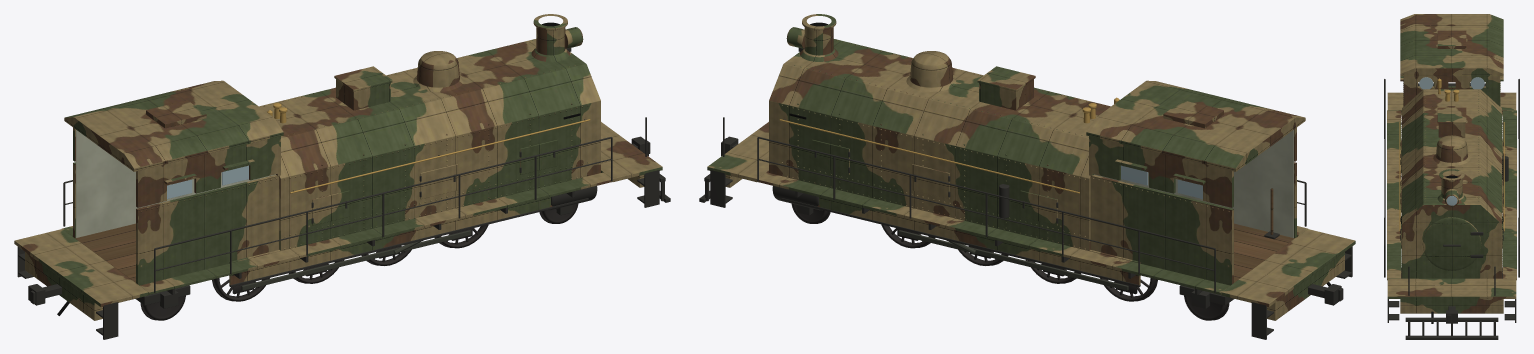
Rendered from locomotive.glb.
3 renders of one model, left to right at view 1: azimuth 30°, elevation 25°; view 2: azimuth 150°, elevation 25°; view 3: azimuth 270°, elevation 25°, orthographic. The views are drawn at different scales.
Parts seen in each view (by area): view 1: BoilerCasing, Cab, Walkways, Frame, Rivets, Wheelset_1, Wheelset_6; view 2: BoilerCasing, Cab, Walkways, Frame, Rivets, Wheelset_1, Wheelset_6; view 3: BoilerCasing, Walkways, Cab, Frame, Rivets.
Boxes of the visible parts, x1,y1,x2,y2 form: BoilerCasing: (259,14,600,250); Cab: (64,80,283,285); Walkways: (14,117,662,339); Frame: (25,136,670,320); Rivets: (140,40,588,249); Wheelset_1: (212,278,269,301); Wheelset_6: (140,295,185,320); BoilerCasing: (769,14,1119,250); Cab: (1086,80,1305,285); Walkways: (707,117,1355,339); Frame: (699,136,1344,320); Rivets: (781,40,1229,249); Wheelset_1: (1100,278,1157,301); Wheelset_6: (1184,295,1229,320); BoilerCasing: (1400,78,1508,278); Walkways: (1384,79,1519,322); Cab: (1400,14,1503,106); Frame: (1400,113,1503,339); Rivets: (1401,81,1502,272).
Size of the model in its own units: 14.82 by 4.34 by 3.8.
Materials: 14 (3 with a texture image).
